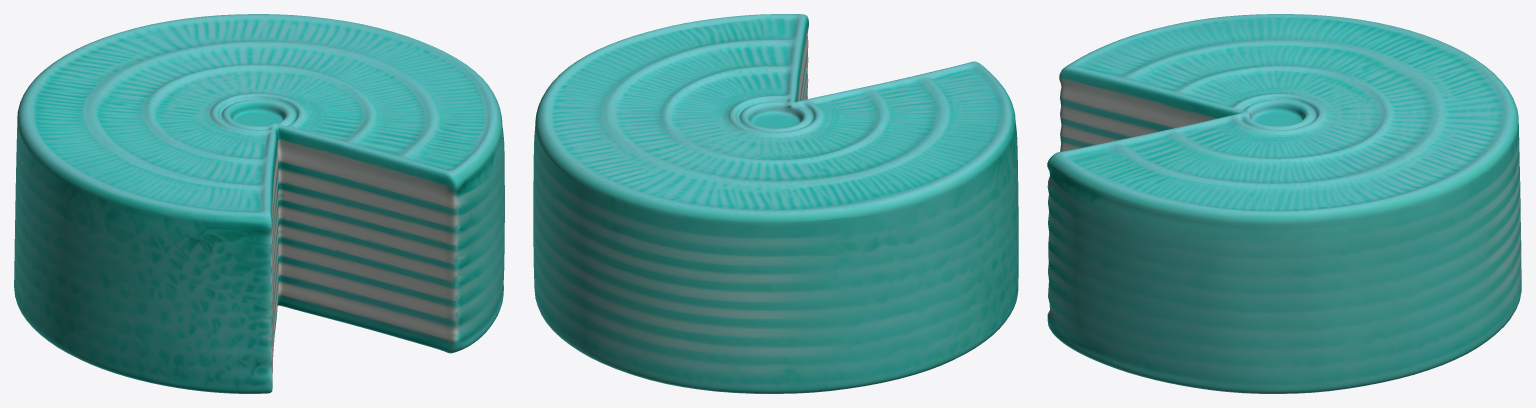
The model's file is Cake.glb.
The picture shows the model from 3 angles, left to right: view 1: azimuth 30°, elevation 25°; view 2: azimuth 150°, elevation 25°; view 3: azimuth 270°, elevation 25°; orthographic projection.
Parts seen in each view (by area): view 1: Cake; view 2: Cake; view 3: Cake.
Boxes of the visible parts, x1=… form: Cake: x1=14, y1=14, x2=504, y2=393; Cake: x1=533, y1=14, x2=1018, y2=393; Cake: x1=1047, y1=14, x2=1521, y2=393.
Size of the model in its own units: 1.07 by 0.4417 by 1.05.
Materials: 1 (1 with a texture image).
